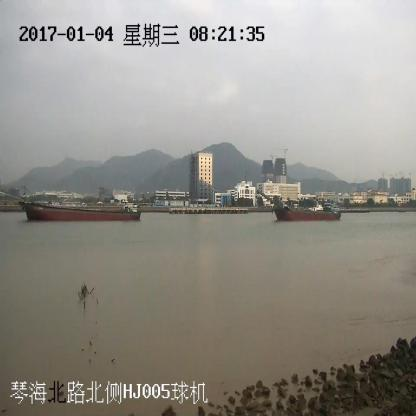Bulk Carrier: (0, 188, 141, 220), (258, 190, 340, 221)
